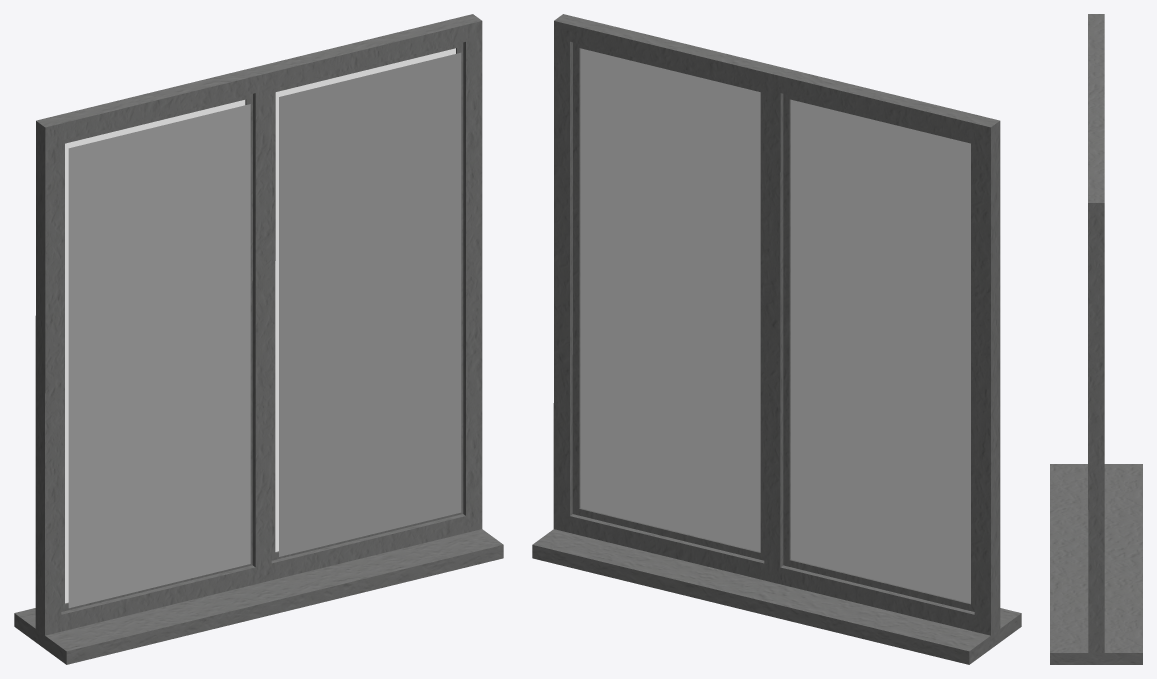
Rendered from Window_4e71480e.obj.
3 views of the same model, side by side, from view 1: azimuth 30°, elevation 25°; view 2: azimuth 150°, elevation 25°; view 3: azimuth 270°, elevation 25° (orthographic). The views are drawn at different scales.
Parts seen in each view (by area): view 1: QuadDecalSpawnPlane_d372848a, QuadDecalSpawnPlane_(1)_03c77640, FP217:polySurface7_7a1db40e, FP217:polySurface3_0221514d; view 2: FP217:polySurface3_0221514d, FP217:polySurface7_7a1db40e; view 3: FP217:polySurface7_7a1db40e.
Part boxes in pixels (x1,y1,x2,y2): QuadDecalSpawnPlane_d372848a: (279, 52, 461, 556); QuadDecalSpawnPlane_(1)_03c77640: (68, 104, 250, 608); FP217:polySurface7_7a1db40e: (14, 14, 503, 664); FP217:polySurface3_0221514d: (65, 48, 455, 603); FP217:polySurface3_0221514d: (580, 48, 970, 603); FP217:polySurface7_7a1db40e: (532, 14, 1021, 664); FP217:polySurface7_7a1db40e: (1050, 14, 1142, 664).
Size of the model in its own units: 1.35 by 1.54 by 0.28.
